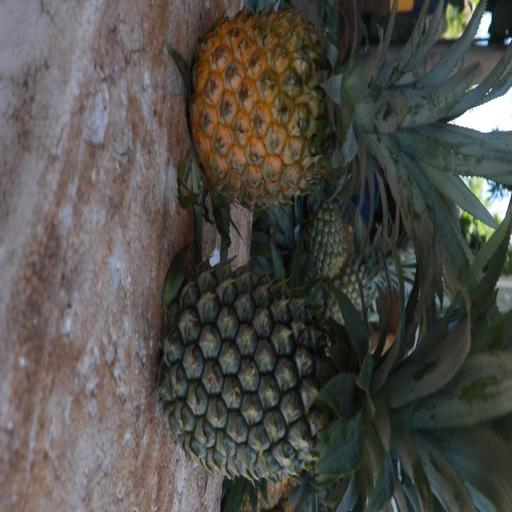Pineapple - v8 v1: (196, 14, 459, 192)
